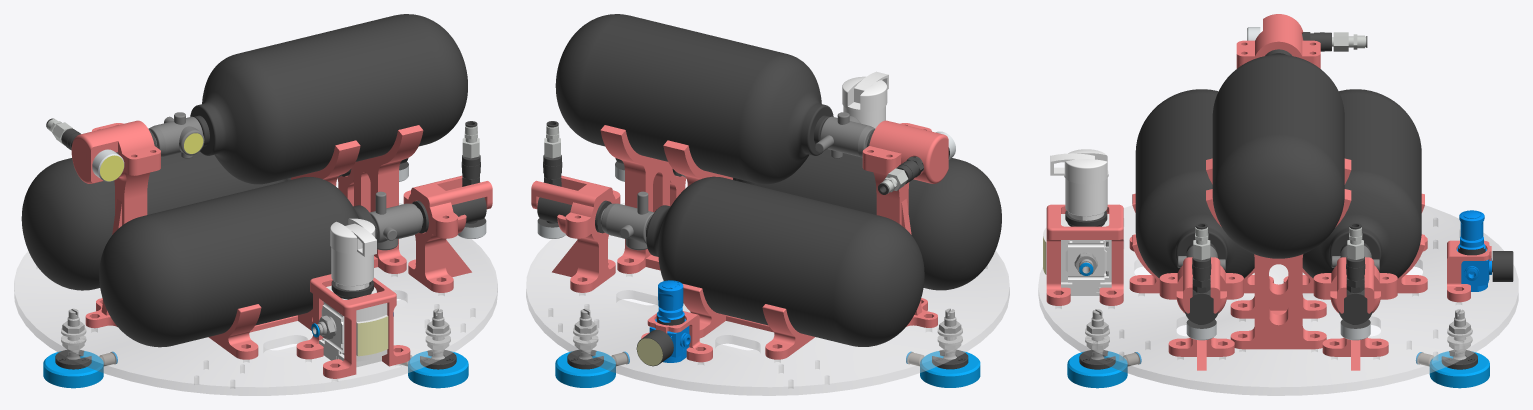
3 renders of one model, left to right at view 1: azimuth 30°, elevation 25°; view 2: azimuth 150°, elevation 25°; view 3: azimuth 270°, elevation 25°, orthographic.
Parts seen in each view (by area): view 1: 4500psi1_5Lbottle-1 - Part, 4500psi1_5Lbottle-1 3 - Part, alpha3_bottom_plate-1 - Part_clonedChild, alpha3_bottom_plate-1 - Part, 4500psi1_5Lbottle-1 2 - Part, alpha3_bottle_mount_hori_top-1 - Part, 527690 MS4-LR-1_4-D7-AS-1 - Part, alpha3_regulator_actuator_mounting-1 - Part, alpha3_bottle_conncet_bot_mid-1 - Part, alpha3_bottle_conncet_bot-2 - Part, alpha3_bottle_conncet_top_mid-1 - Part, alpha3_bottle_conncet_top-2 - Part (+11 smaller); view 2: 4500psi1_5Lbottle-1 2 - Part, 4500psi1_5Lbottle-1 - Part, alpha3_bottom_plate-1 - Part_clonedChild, alpha3_bottom_plate-1 - Part, 4500psi1_5Lbottle-1 3 - Part, alpha3_bottle_mount_hori_top-1 - Part, alpha3_bottle_conncet_top_mid-1 - Part, alpha3_bottle_mount_hori-2 - Part, alpha3_bottle_conncet_bot-1 - Part, alpha3_bottle_conncet_top-1 - Part, alpha3_bottle_conncet_bot_mid-1 - Part, 527690 MS4-LR-1_4-D7-AS-1 - Part (+13 smaller); view 3: alpha3_bottom_plate-1 - Part_clonedChild, alpha3_bottom_plate-1 - Part, 4500psi1_5Lbottle-1 - Part, 4500psi1_5Lbottle-1 2 - Part, 4500psi1_5Lbottle-1 3 - Part, alpha3_bottle_mount_hori_top-1 - Part, 527690 MS4-LR-1_4-D7-AS-1 - Part, alpha3_regulator_actuator_mounting-1 - Part, alpha3_bottle_conncet_top_mid-1 - Part, alpha3_bottle_conncet_top-2 - Part, alpha3_bottle_conncet_top-1 - Part, alpha3_bottle_conncet_bot-1 - Part (+16 smaller).
Boxes of the visible parts, x1=… form: 4500psi1_5Lbottle-1 - Part: x1=190, y1=14, x2=467, y2=184; 4500psi1_5Lbottle-1 3 - Part: x1=99, y1=177, x2=377, y2=347; alpha3_bottom_plate-1 - Part_clonedChild: x1=14, y1=203, x2=497, y2=395; alpha3_bottom_plate-1 - Part: x1=14, y1=203, x2=497, y2=395; 4500psi1_5Lbottle-1 2 - Part: x1=21, y1=151, x2=290, y2=290; alpha3_bottle_mount_hori_top-1 - Part: x1=291, y1=125, x2=423, y2=273; 527690 MS4-LR-1_4-D7-AS-1 - Part: x1=319, y1=218, x2=387, y2=367; alpha3_regulator_actuator_mounting-1 - Part: x1=296, y1=274, x2=410, y2=378; alpha3_bottle_conncet_bot_mid-1 - Part: x1=71, y1=152, x2=160, y2=328; alpha3_bottle_conncet_bot-2 - Part: x1=408, y1=214, x2=471, y2=292; alpha3_bottle_conncet_top_mid-1 - Part: x1=71, y1=120, x2=160, y2=167; alpha3_bottle_conncet_top-2 - Part: x1=403, y1=175, x2=492, y2=230; 4500psi1_5Lbottle-1 2 - Part: x1=646, y1=176, x2=924, y2=346; 4500psi1_5Lbottle-1 - Part: x1=555, y1=14, x2=833, y2=184; alpha3_bottom_plate-1 - Part_clonedChild: x1=526, y1=203, x2=1009, y2=395; alpha3_bottom_plate-1 - Part: x1=526, y1=203, x2=1009, y2=395; 4500psi1_5Lbottle-1 3 - Part: x1=733, y1=149, x2=1001, y2=290; alpha3_bottle_mount_hori_top-1 - Part: x1=600, y1=125, x2=732, y2=273; alpha3_bottle_conncet_top_mid-1 - Part: x1=862, y1=120, x2=948, y2=168; alpha3_bottle_mount_hori-2 - Part: x1=682, y1=283, x2=814, y2=359; alpha3_bottle_conncet_bot-1 - Part: x1=552, y1=203, x2=620, y2=292; alpha3_bottle_conncet_top-1 - Part: x1=531, y1=175, x2=620, y2=230; alpha3_bottle_conncet_bot_mid-1 - Part: x1=862, y1=154, x2=948, y2=327; 527690 MS4-LR-1_4-D7-AS-1 - Part: x1=842, y1=71, x2=888, y2=128; alpha3_bottom_plate-1 - Part_clonedChild: x1=1038, y1=205, x2=1518, y2=395; alpha3_bottom_plate-1 - Part: x1=1039, y1=206, x2=1517, y2=395; 4500psi1_5Lbottle-1 - Part: x1=1212, y1=54, x2=1344, y2=258; 4500psi1_5Lbottle-1 2 - Part: x1=1302, y1=89, x2=1421, y2=278; 4500psi1_5Lbottle-1 3 - Part: x1=1135, y1=89, x2=1254, y2=278; alpha3_bottle_mount_hori_top-1 - Part: x1=1206, y1=158, x2=1351, y2=349; 527690 MS4-LR-1_4-D7-AS-1 - Part: x1=1043, y1=149, x2=1111, y2=295; alpha3_regulator_actuator_mounting-1 - Part: x1=1046, y1=204, x2=1123, y2=305; alpha3_bottle_conncet_top_mid-1 - Part: x1=1236, y1=14, x2=1320, y2=64; alpha3_bottle_conncet_top-2 - Part: x1=1159, y1=257, x2=1243, y2=313; alpha3_bottle_conncet_top-1 - Part: x1=1313, y1=257, x2=1397, y2=313; alpha3_bottle_conncet_bot-1 - Part: x1=1313, y1=287, x2=1397, y2=370.
Bounding box in the file's own units: 0.3998 × 0.2501 × 0.3997.
